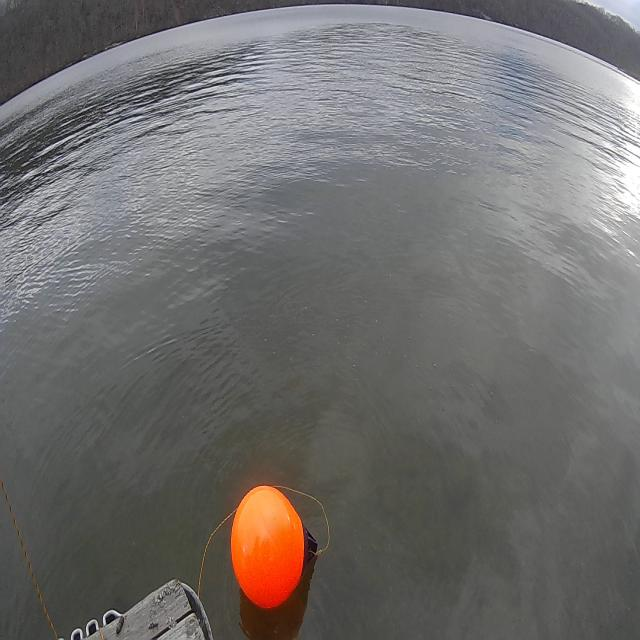Buoy: (226, 474, 324, 621)
